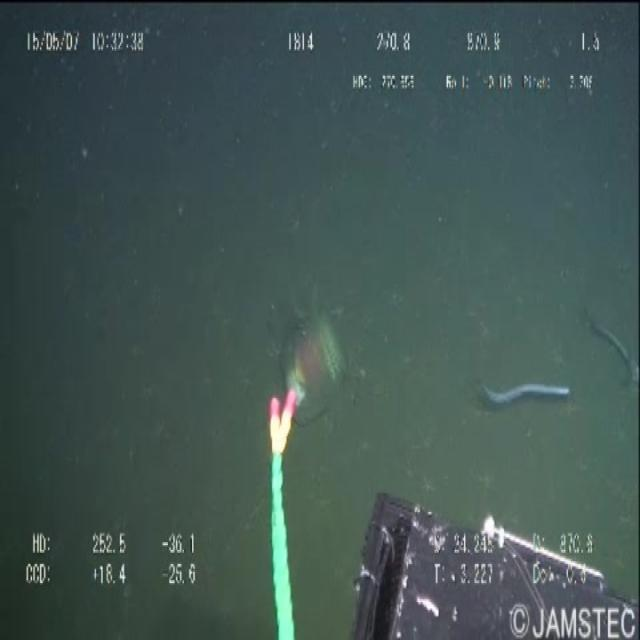Cutlery: (261, 298, 364, 436)
